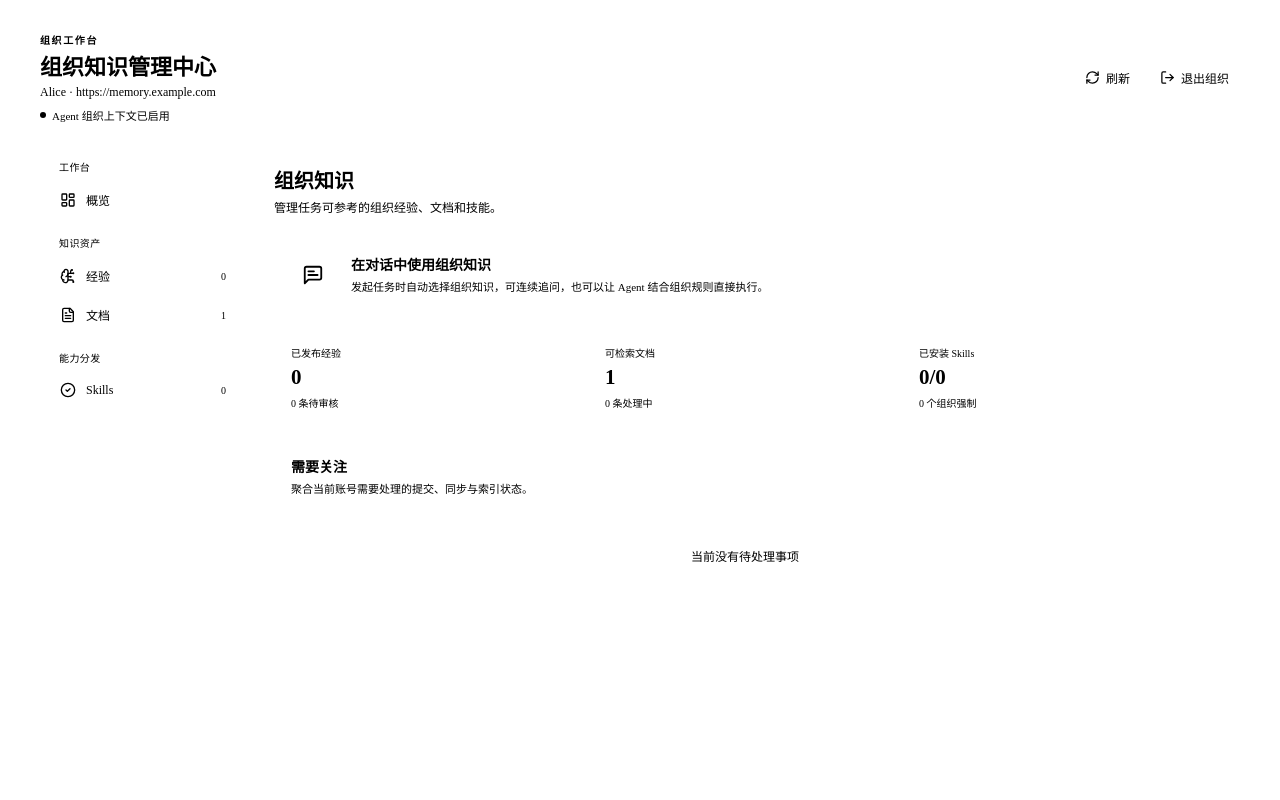
Test: OrganizationMemoryPanel › Office 文档尚未解析时在预览窗口提供下载
Expected: the text "Alice · https://memory.example.com" is shown, [40,85,216,100]
Click the button "文档 1": coordinates (143, 315) [50,297,236,333]
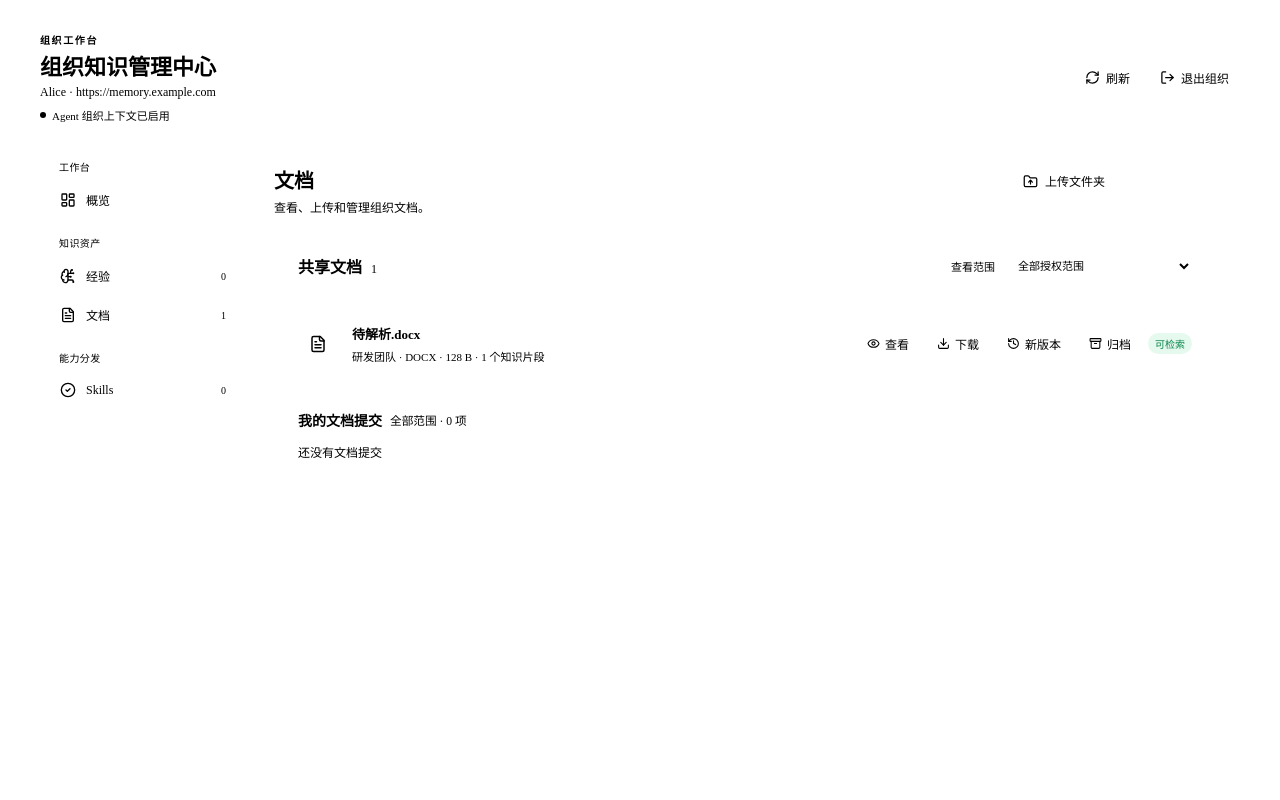
Click the button "查看": coordinates (888, 344) [856,328,920,360]
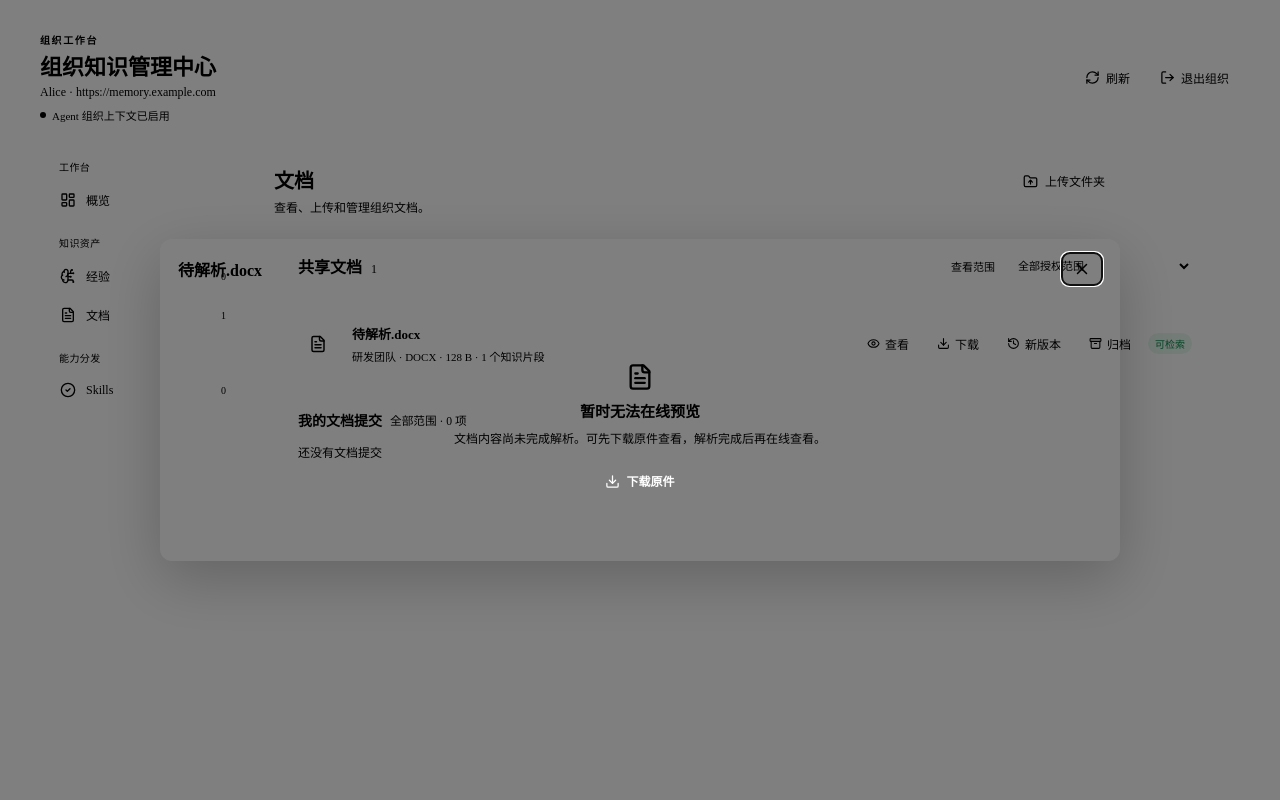
Expected: the text "暂时无法在线预览" is shown, [580,400,700,421]
Expected: the button "下载原件" is shown, [594,465,686,497]
